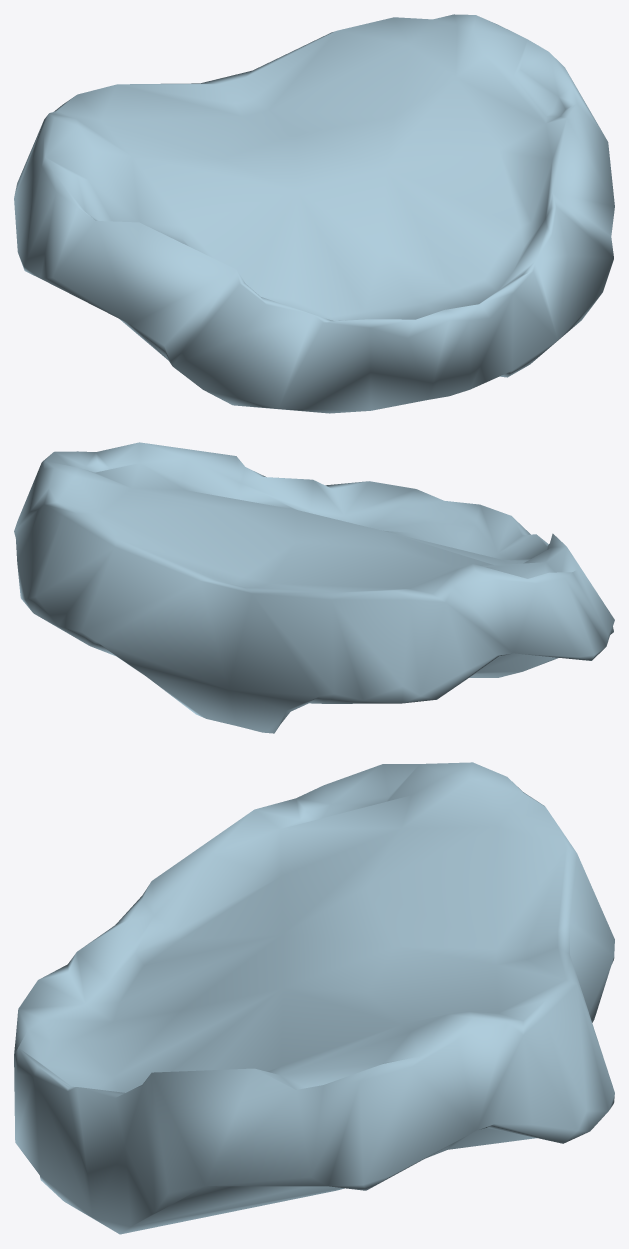
Rendered from articulacoes-intervertebral-disc-c2-c3.glb.
3 renders of one model, top to bottom at view 1: azimuth 30°, elevation 25°; view 2: azimuth 150°, elevation 25°; view 3: azimuth 270°, elevation 25°, orthographic. The views are drawn at different scales.
Visible parts, largest first — view 1: Intervertebral disc C2-C3; view 2: Intervertebral disc C2-C3; view 3: Intervertebral disc C2-C3.
Boxes of the visible parts, <box> form: Intervertebral disc C2-C3: <box>14,14,614,413</box>; Intervertebral disc C2-C3: <box>14,442,614,733</box>; Intervertebral disc C2-C3: <box>14,762,614,1234</box>.
Size of the model in its own units: 0.0239 by 0.0081 by 0.0176.
